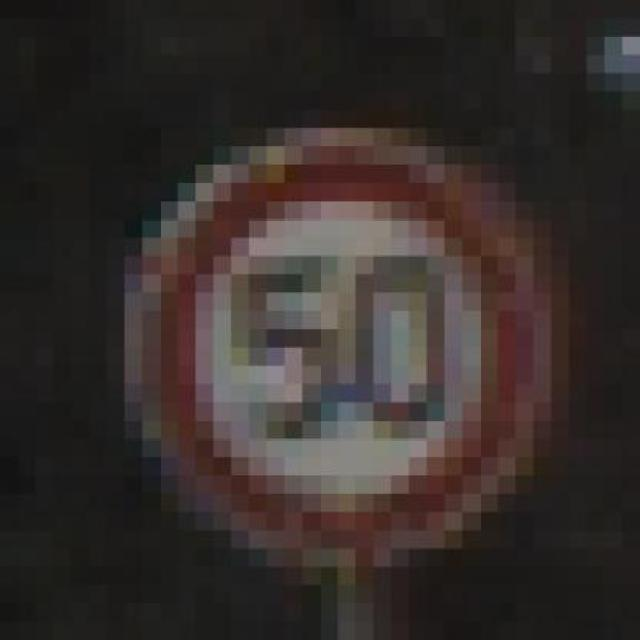50 mph speed limit: (89, 128, 569, 568)
